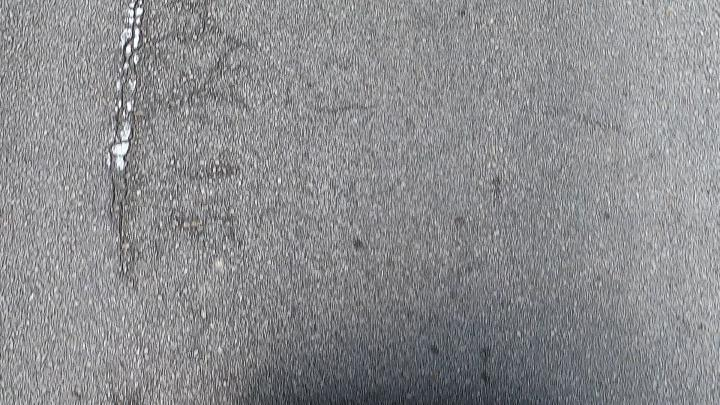Crack: (106, 0, 147, 281), (108, 0, 142, 277)
